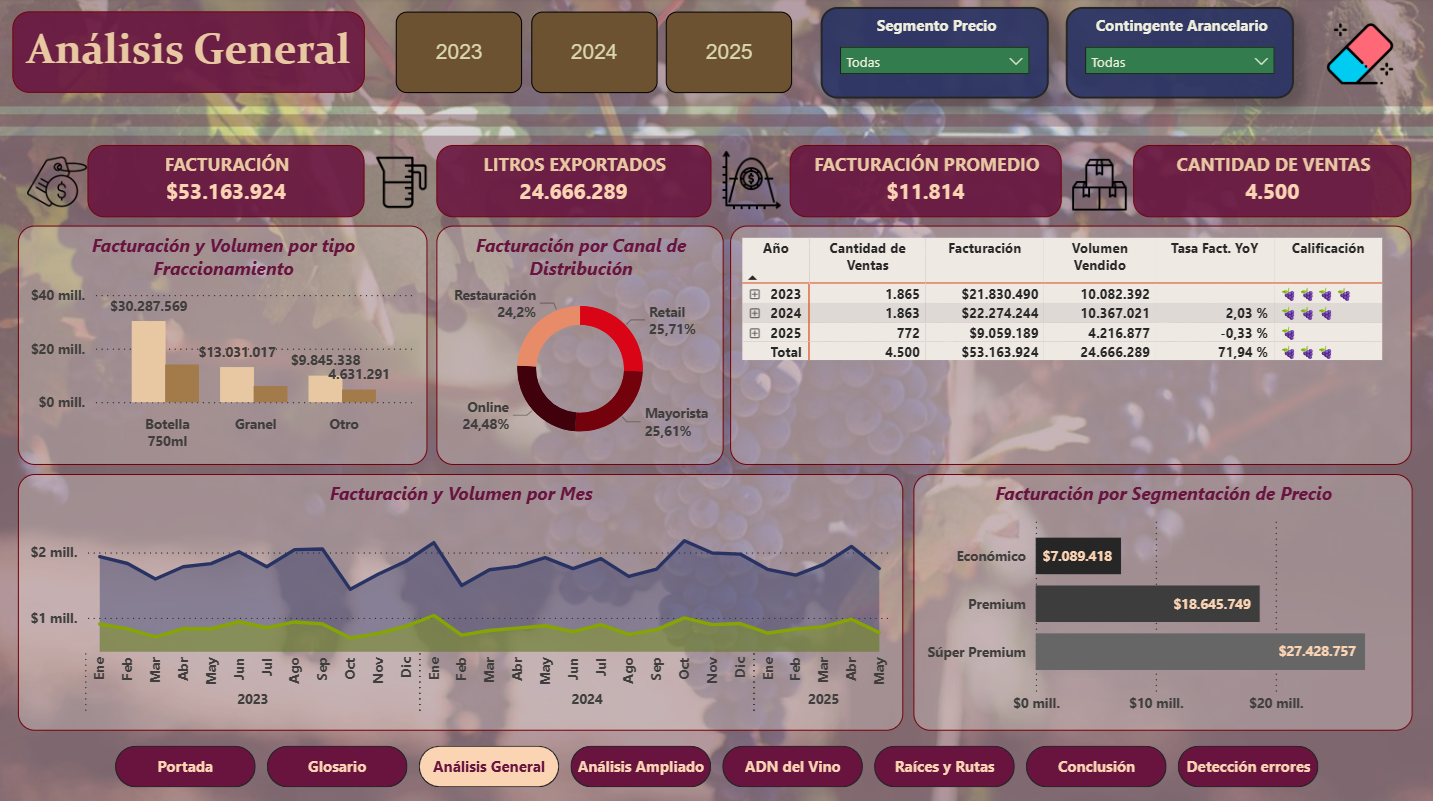

This screenshot's page, from the dashboard's own definition file:
{"tool":"powerbi","page":{"name":"Análisis General","canvas":[1280,720],"ordinal":2},"visuals":[{"type":"pivotTable","fields":{"Rows":["Calendario DAX 2.Año","Calendario DAX 2.Trimestre"],"Values":["Medidas.Ventas","Medidas.Facturacion","Medidas.Total Volumen","Medidas.Tasa de Facturacion YOY","Medidas.Calificacion Volumen Anual"]},"box":[650.8,202.7,605.9,213.1],"z":0},{"type":"areaChart","title":"Facturación y Volumen por Mes","fields":{"Y":["Medidas.Facturación","Medidas.Volumen Vendido"],"Category":["Calendario DAX 2.Año","Calendario DAX 2.Mes_Corto"]},"box":[17.3,423.9,786.7,228.1],"z":1000},{"type":"clusteredColumnChart","title":"Facturación y Volumen por tipo Fraccionamiento","fields":{"Category":["Formato_Fraccionamiento.Formato_Fraccionamiento"],"Y":["Medidas.Facturación","Medidas.Total Volumen"]},"box":[17.3,202.7,364,213.1],"z":2000},{"type":"textbox","box":[12.7,12.7,313.3,72.6],"z":3000},{"type":"slicer","title":"Segmento Precio","fields":{"Values":["Segmento_Precio.Segmento_Precio"]},"box":[731.4,9.2,202.7,81.8],"z":4000},{"type":"slicer","title":"Contingente Arancelario","fields":{"Values":["Contingente_Arancelario.Contingente_Arancelario"]},"box":[949.1,9.2,202.7,81.8],"z":5000},{"type":"donutChart","title":"Facturación por Canal de Distribución","fields":{"Y":["Medidas.Facturación"],"Category":["Canal_Distribucion.Canal_Distribucion"]},"box":[389.3,202.7,255.7,213.1],"z":6000},{"type":"image","box":[1176,16.1,69.1,70.3],"z":7000},{"type":"card","title":"FACTURACIÓN","fields":{"Values":["Medidas.Facturación"]},"box":[79.5,131.3,246.5,64.5],"z":8000},{"type":"card","title":"LITROS EXPORTADOS","fields":{"Values":["Medidas.Volumen Vendido"]},"box":[389.3,131.3,244.2,64.5],"z":9000},{"type":"card","title":"FACTURACIÓN PROMEDIO","fields":{"Values":["Medidas.Promedio de Facturación"]},"box":[703.8,131.3,241.9,64.5],"z":10000},{"type":"card","title":"CANTIDAD DE VENTAS","fields":{"Values":["Medidas.Cantidad de Ventas"]},"box":[1009,131.3,247.6,64.5],"z":11000},{"type":"pageNavigator","box":[104,665,1072,37],"z":12000},{"type":"ChicletSlicer1448559807354","fields":{"Category":["Calendario DAX 2.Año"]},"box":[344.4,3.5,372,92.1],"z":13000},{"type":"barChart","title":"Facturación por Segmentación de Precio","fields":{"Category":["Segmento_Precio.Segmento_Precio"],"Y":["Medidas.Facturación"]},"box":[813.2,423.9,443.5,228.1],"z":14000},{"type":"image","box":[17.3,132.5,69.1,63.4],"z":15000},{"type":"image","box":[944.5,133.6,69.1,63.4],"z":16000},{"type":"image","box":[328.3,133.6,61,62.2],"z":17000},{"type":"image","box":[635.8,130.2,66.8,64.5],"z":18000}]}

Visuals, with their boxes in screenshot pixels (x1, y1, x2, y2), scaled from the page's 1280x720 canvas onto the 1433x801 screenshot:
pivotTable - Calendario DAX 2.Año x Calendario DAX 2.Trimestre: rect(729, 226, 1407, 463)
"Facturación y Volumen por Mes" areaChart: rect(19, 472, 900, 725)
"Facturación y Volumen por tipo Fraccionamiento" clusteredColumnChart: rect(19, 226, 427, 463)
textbox: rect(14, 14, 365, 95)
"Segmento Precio" slicer: rect(819, 10, 1046, 101)
"Contingente Arancelario" slicer: rect(1063, 10, 1289, 101)
"Facturación por Canal de Distribución" donutChart: rect(436, 226, 722, 463)
image: rect(1317, 18, 1394, 96)
"FACTURACIÓN" card: rect(89, 146, 365, 218)
"LITROS EXPORTADOS" card: rect(436, 146, 709, 218)
"FACTURACIÓN PROMEDIO" card: rect(788, 146, 1059, 218)
"CANTIDAD DE VENTAS" card: rect(1130, 146, 1407, 218)
pageNavigator: rect(116, 740, 1317, 781)
ChicletSlicer1448559807354 - Calendario DAX 2.Año: rect(386, 4, 802, 106)
"Facturación por Segmentación de Precio" barChart: rect(910, 472, 1407, 725)
image: rect(19, 147, 97, 218)
image: rect(1057, 149, 1135, 219)
image: rect(368, 149, 436, 218)
image: rect(712, 145, 787, 217)
